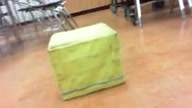cube: (47, 22, 126, 101)
